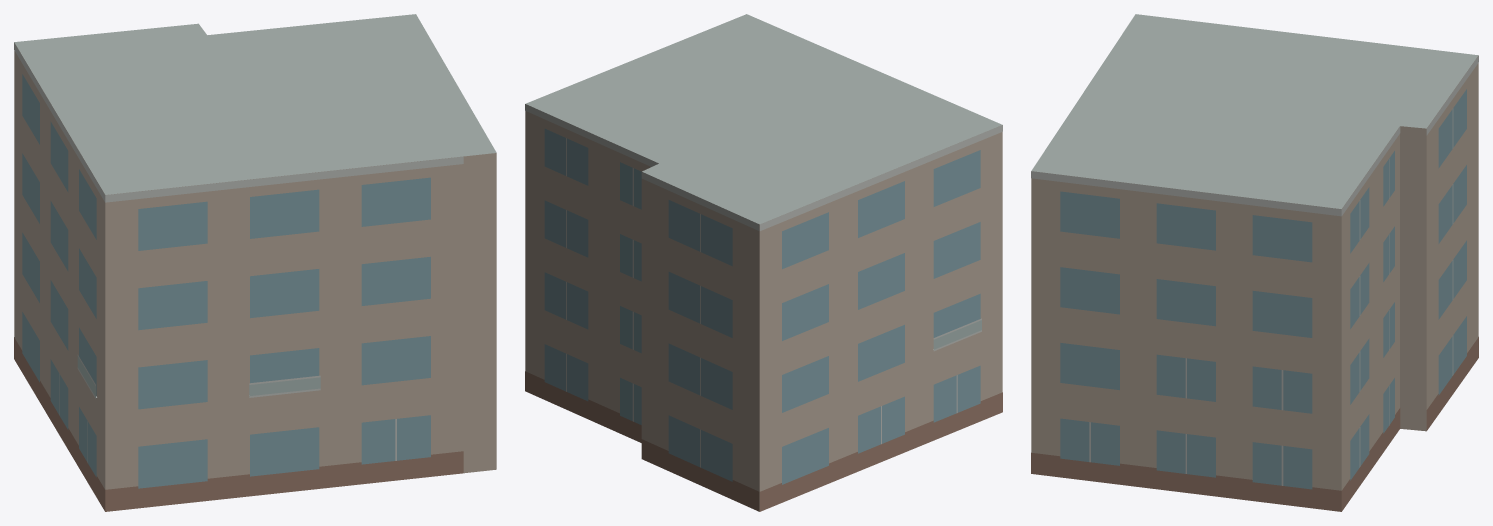
Rendered from survey-upis-33025956.glb.
The picture shows the model from 3 angles, left to right: view 1: azimuth 30°, elevation 25°; view 2: azimuth 150°, elevation 25°; view 3: azimuth 270°, elevation 25°; orthographic projection. The views are drawn at different scales.
Visible parts, largest first — view 1: survey-upis-33025956.tmp; view 2: survey-upis-33025956.tmp; view 3: survey-upis-33025956.tmp.
Part boxes in pixels (left/top/right/bottom): survey-upis-33025956.tmp: left=14, top=14, right=496, bottom=511; survey-upis-33025956.tmp: left=525, top=14, right=1002, bottom=511; survey-upis-33025956.tmp: left=1031, top=14, right=1478, bottom=511.
Size of the model in its own units: 14.11 by 10.2 by 13.67.
